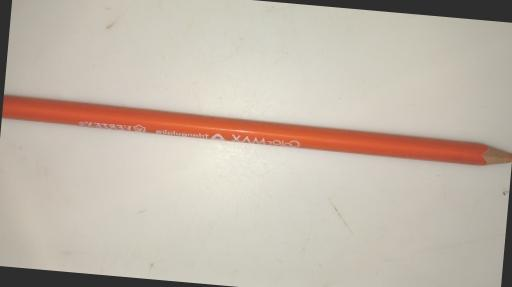Pencil: (1, 93, 512, 165)
